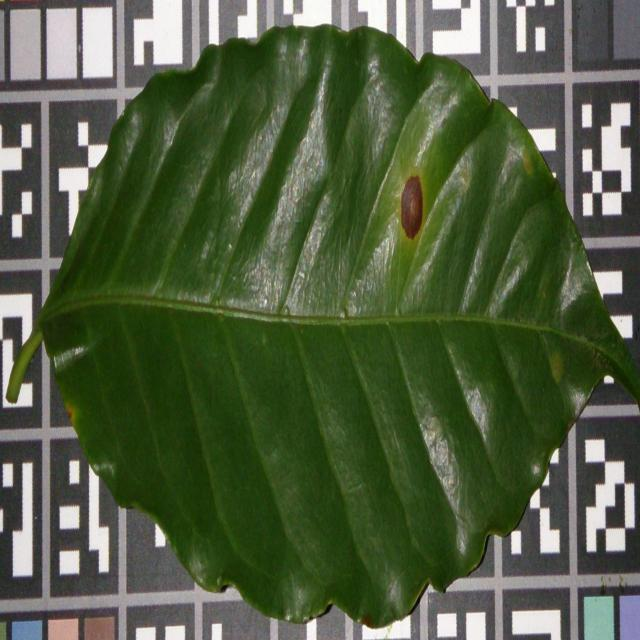Enfermedad-Mancha-de-hierro: (13, 26, 640, 630)
